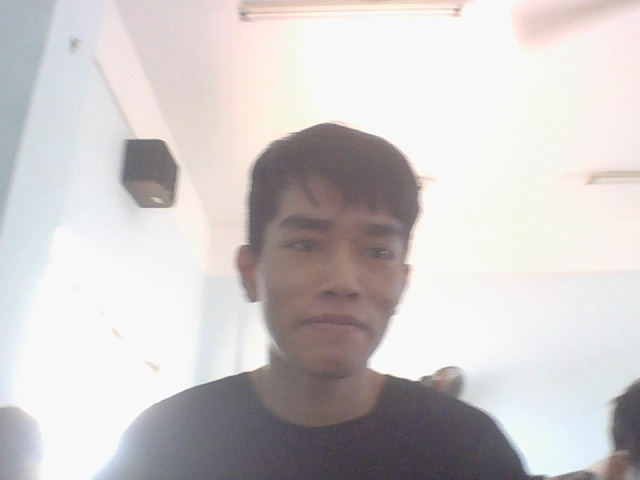real: (229, 105, 436, 399)
